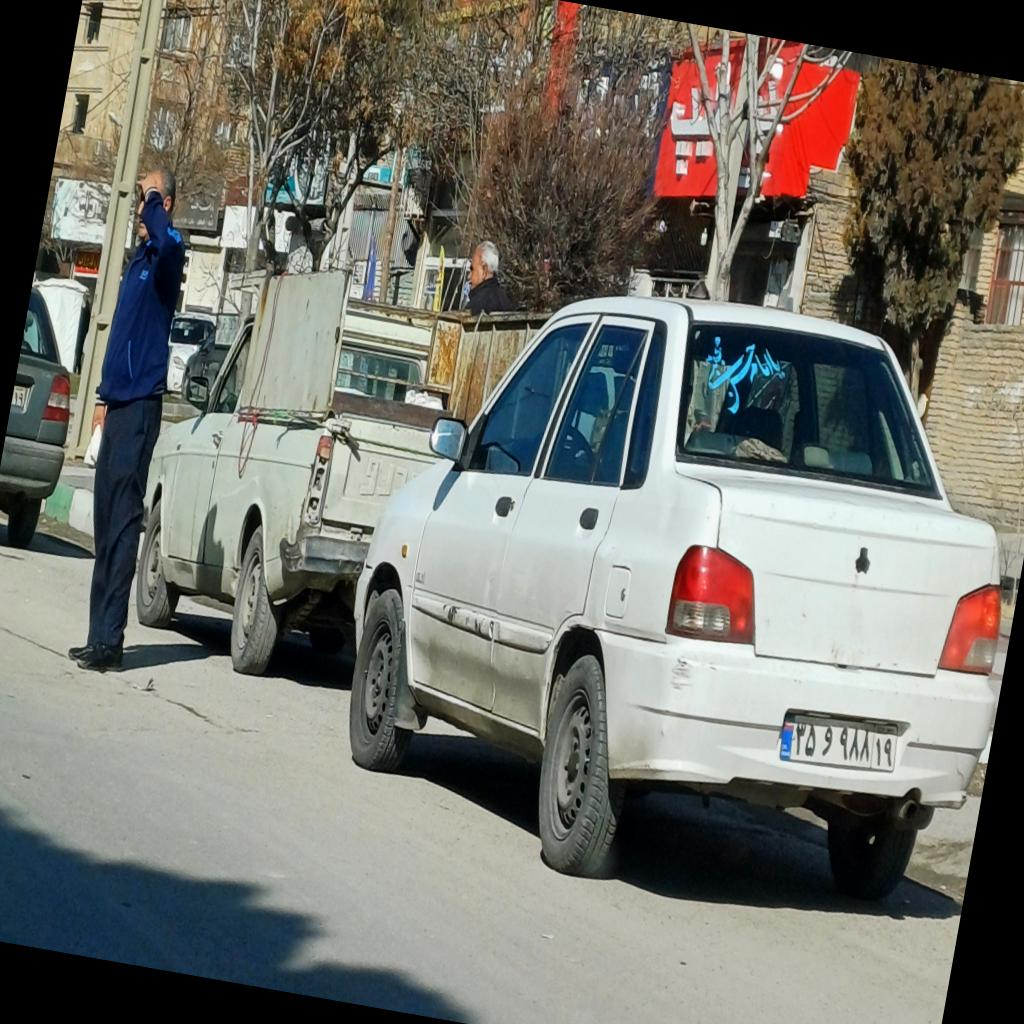Plates: (777, 704, 902, 780)
